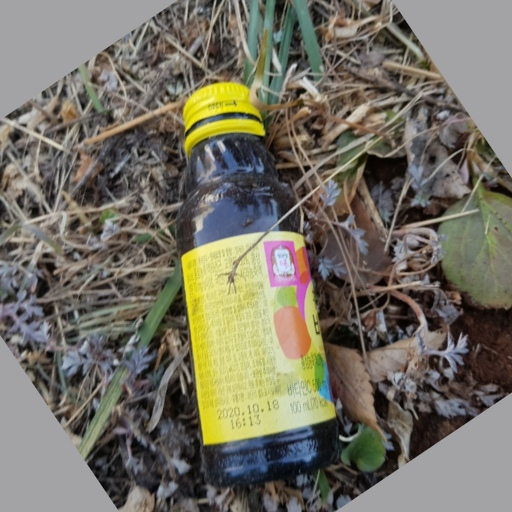Glass_3: (176, 85, 331, 480)
